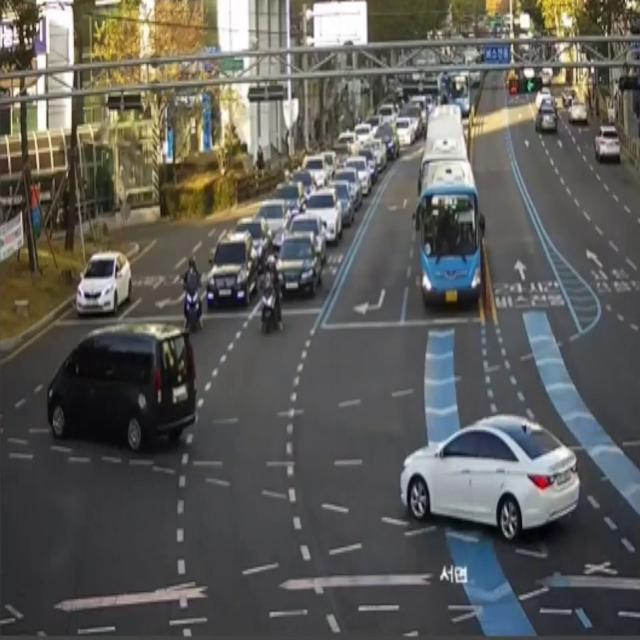bus: (260, 255, 283, 332), (182, 255, 202, 323)
car: (417, 102, 484, 308)
motorcycle: (401, 409, 580, 550), (50, 316, 197, 456), (206, 231, 259, 310), (76, 245, 132, 313), (274, 230, 320, 299), (229, 213, 271, 280), (287, 212, 326, 269), (304, 187, 339, 249), (258, 196, 288, 249), (274, 182, 304, 226), (594, 119, 620, 165), (538, 94, 558, 136)
